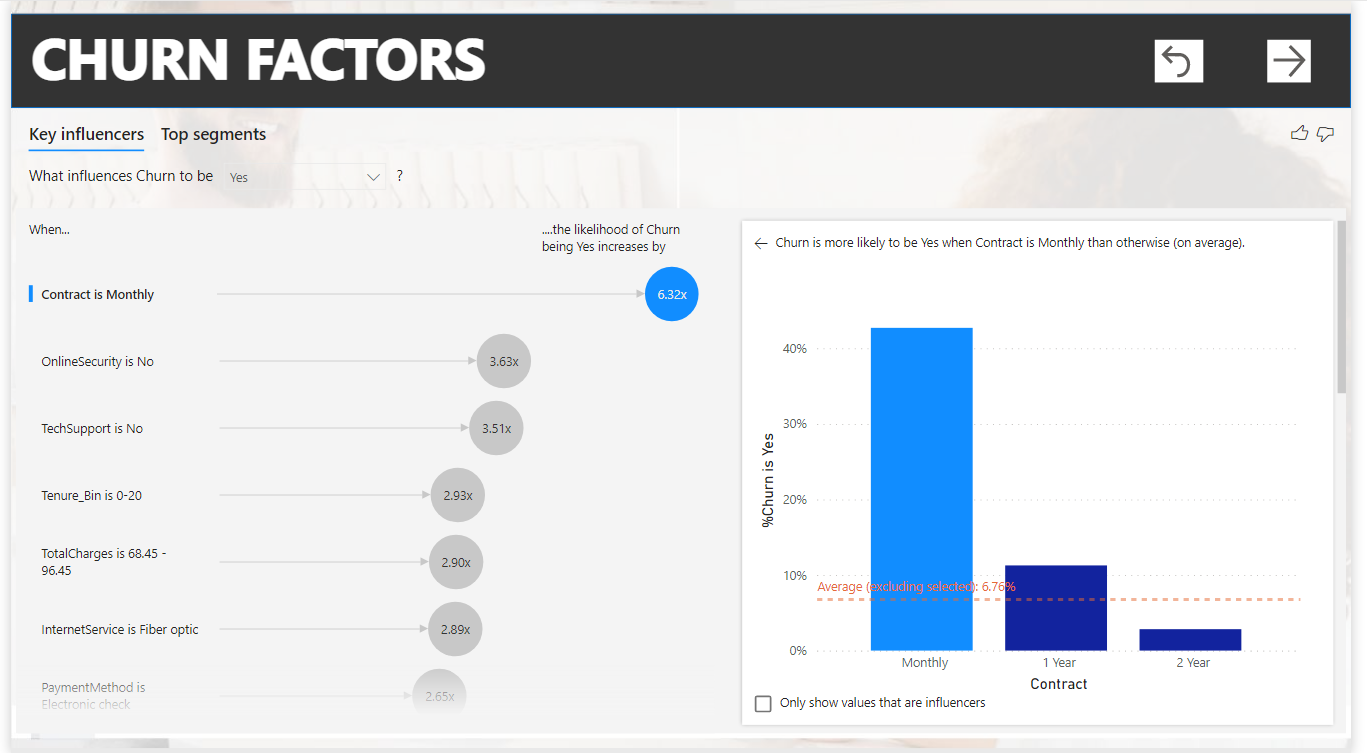

The page's visual inventory and layout, read from the dashboard file:
{"tool":"powerbi","page":{"name":"Churn Factors","canvas":[1280,720],"ordinal":3},"visuals":[{"type":"shape","box":[0,11.9,1280,90.7],"z":11001},{"type":"textbox","box":[0,11.9,946.9,90.7],"z":11002},{"type":"actionButton","box":[1200,37,41.8,40.6],"z":11003},{"type":"actionButton","box":[1092.5,37,46.6,40.6],"z":11004},{"type":"keyDriversVisual","fields":{"Target":["Telco-Churn-Analysis.Churn"],"ExplainBy":["Telco-Churn-Analysis.Contract","Telco-Churn-Analysis.Dependents","Telco-Churn-Analysis.DeviceProtection","Telco-Churn-Analysis.gender","Telco-Churn-Analysis.InternetService","Sum(Telco-Churn-Analysis.MonthlyCharges)","Telco-Churn-Analysis.MultipleLines","Telco-Churn-Analysis.OnlineBackup","Telco-Churn-Analysis.OnlineSecurity","Telco-Churn-Analysis.PaperlessBilling","Telco-Churn-Analysis.Partner","Telco-Churn-Analysis.PaymentMethod"]},"box":[0,102.7,1280,601.8],"z":11005}]}

Visuals, with their boxes in screenshot pixels (x1, y1, x2, y2), scaled from the page's 1280x720 canvas onto the 1367x753 screenshot:
shape: box=[0, 12, 1366, 107]
textbox: box=[0, 12, 1011, 107]
actionButton: box=[1282, 39, 1326, 81]
actionButton: box=[1167, 39, 1217, 81]
keyDriversVisual - Telco-Churn-Analysis.Churn x Telco-Churn-Analysis.Contract: box=[0, 107, 1366, 737]
